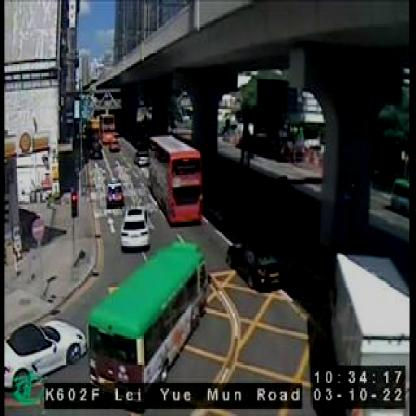Bus: (147, 134, 200, 220), (99, 113, 114, 142)
Car: (4, 321, 84, 383), (224, 237, 287, 288), (121, 204, 149, 245), (107, 179, 121, 206), (109, 142, 121, 151)
Minibus: (87, 245, 207, 394)
